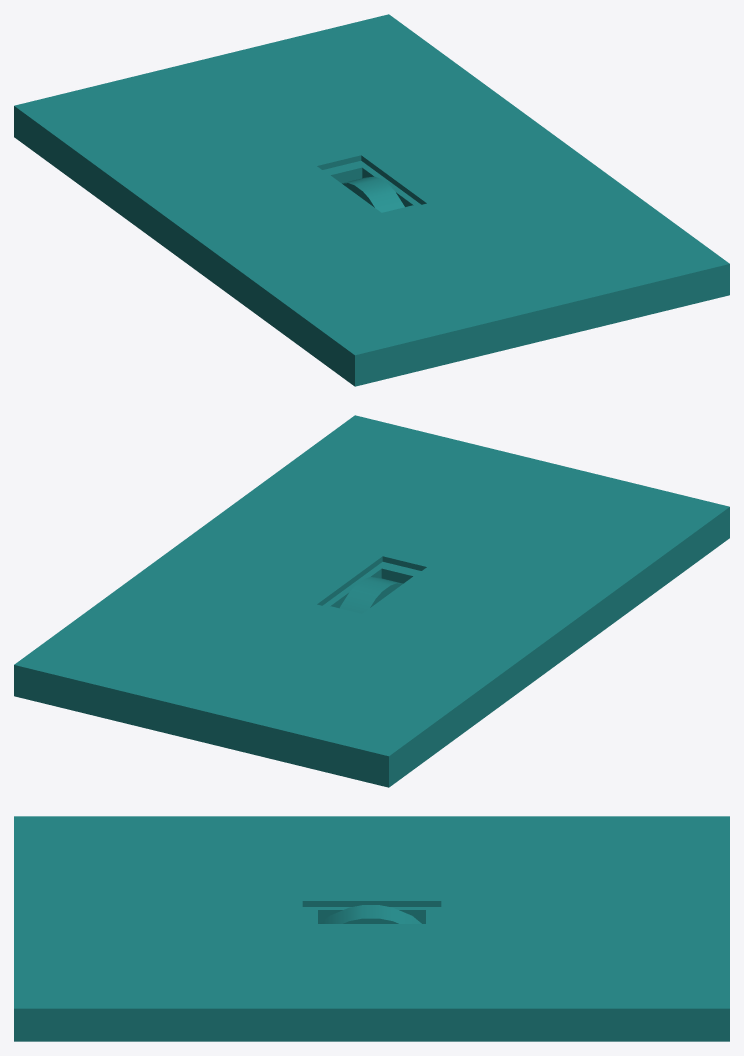
File: Interruptor.fbx
3 renders of one model, top to bottom at view 1: azimuth 30°, elevation 25°; view 2: azimuth 150°, elevation 25°; view 3: azimuth 270°, elevation 25°, orthographic. The views are drawn at different scales.
Parts seen in each view (by area): view 1: Interruptor; view 2: Interruptor; view 3: Interruptor.
Boxes of the visible parts, x1=… form: Interruptor: x1=14, y1=14, x2=729, y2=386; Interruptor: x1=14, y1=415, x2=729, y2=787; Interruptor: x1=14, y1=816, x2=729, y2=1041.
Size of the model in its own units: 0.075 by 0.0113 by 0.1181.
